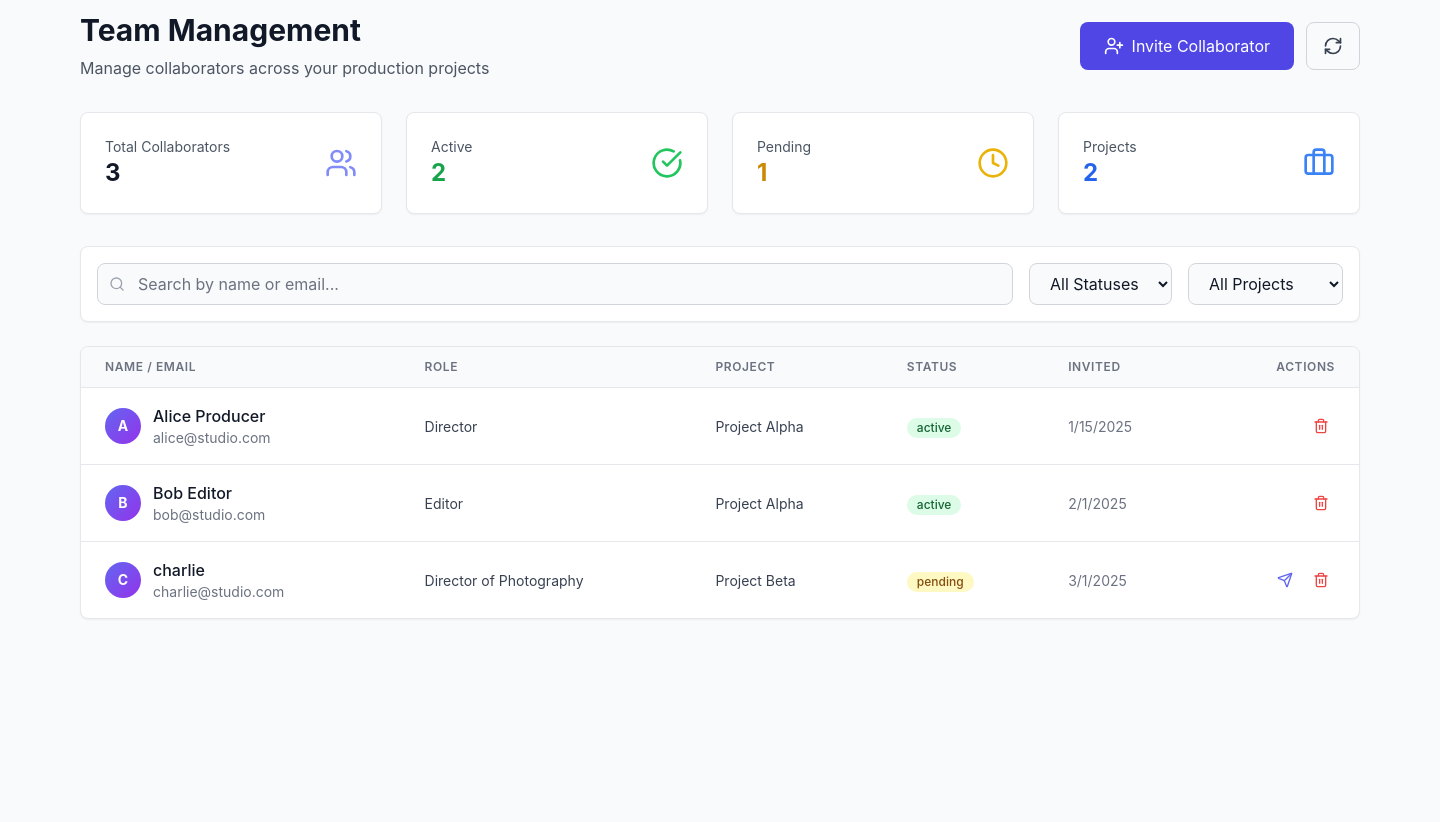
Scenario: TeamManagement › Search filter › filters collaborators by name
Step 1. Type "Alice" into the field with placeholder "Search by name or email..." → x=555, y=284, box [97,263,1013,305]
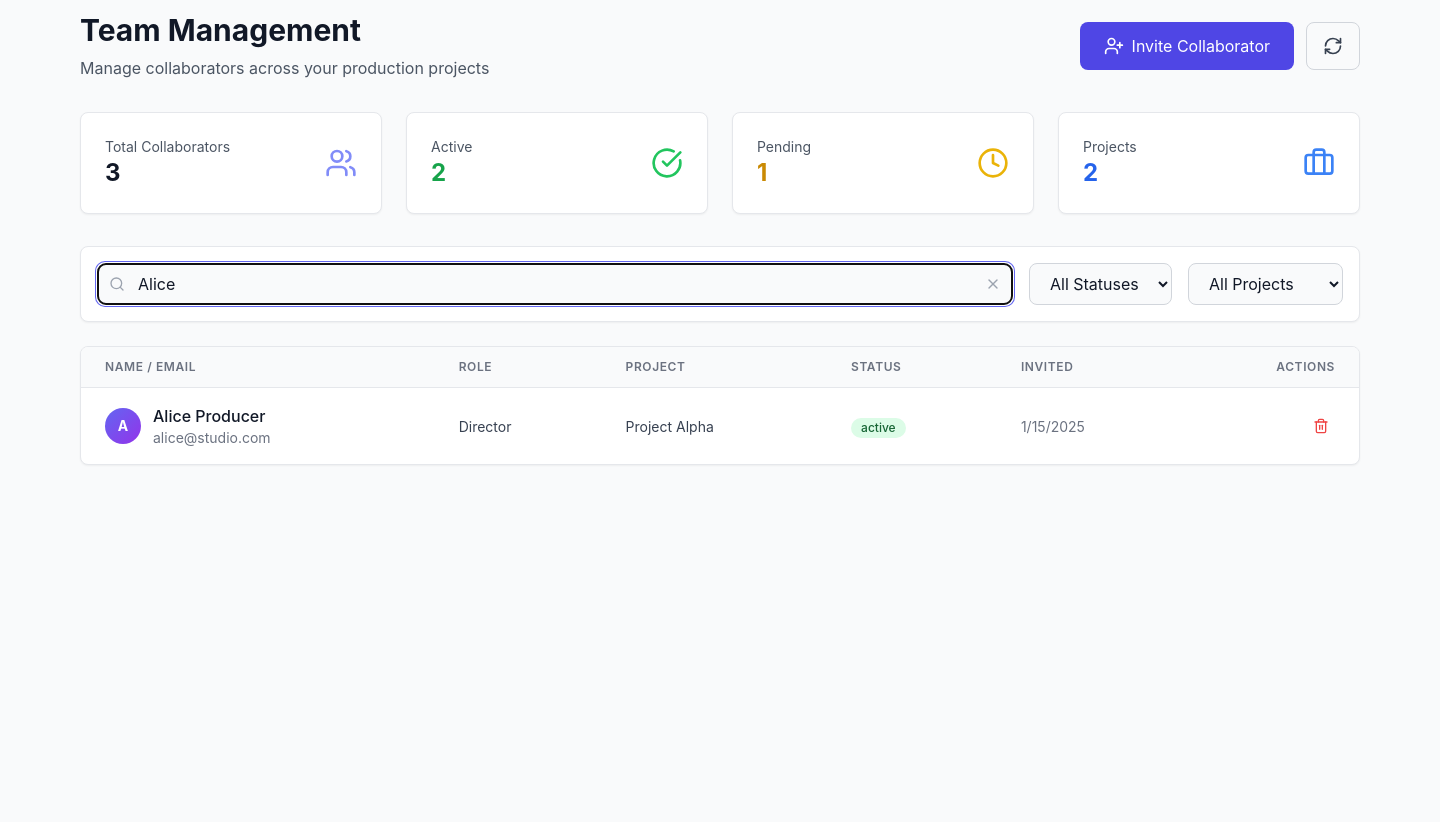
Expected: the text "Alice Producer" is shown, [153,404,271,428]
Now the text "Bob Editor" is gone
